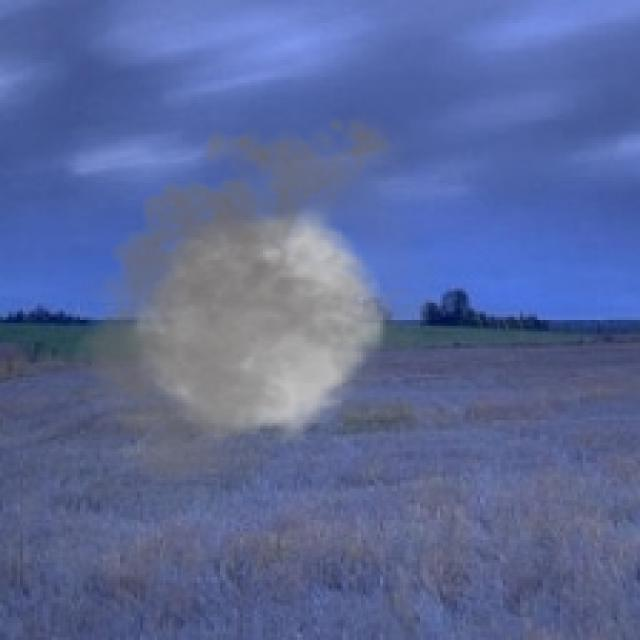Smoke: (60, 106, 457, 497)
